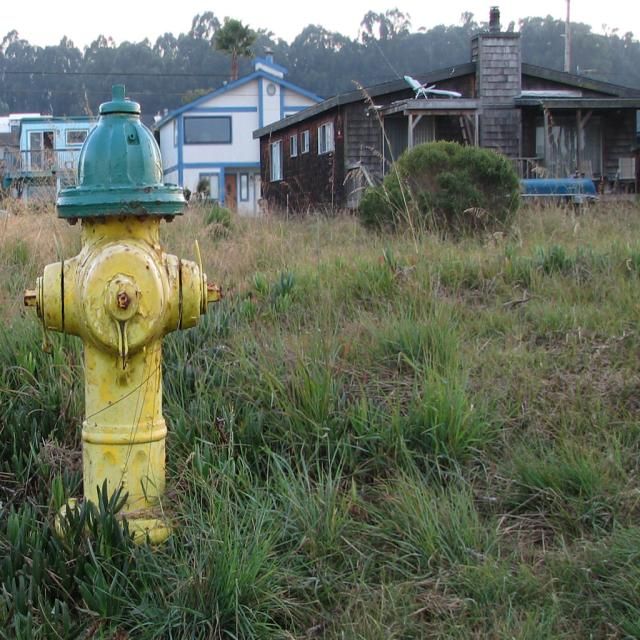fire_hydrant: (27, 82, 222, 550)
